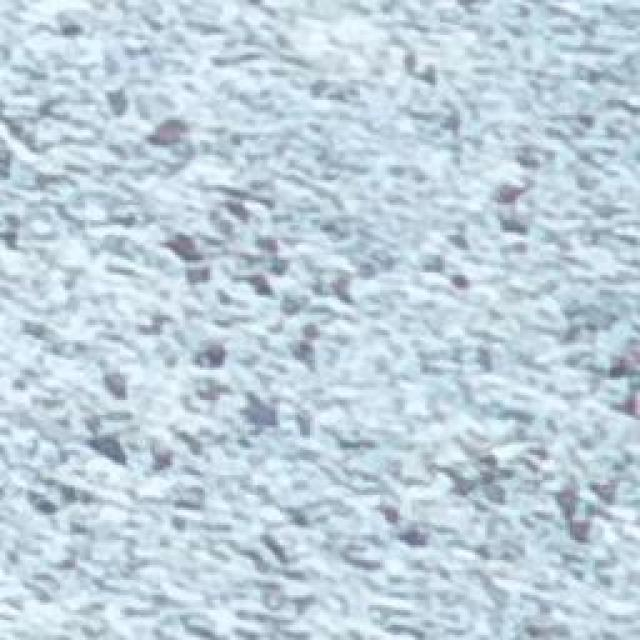concrete-crack: (113, 115, 616, 372)
